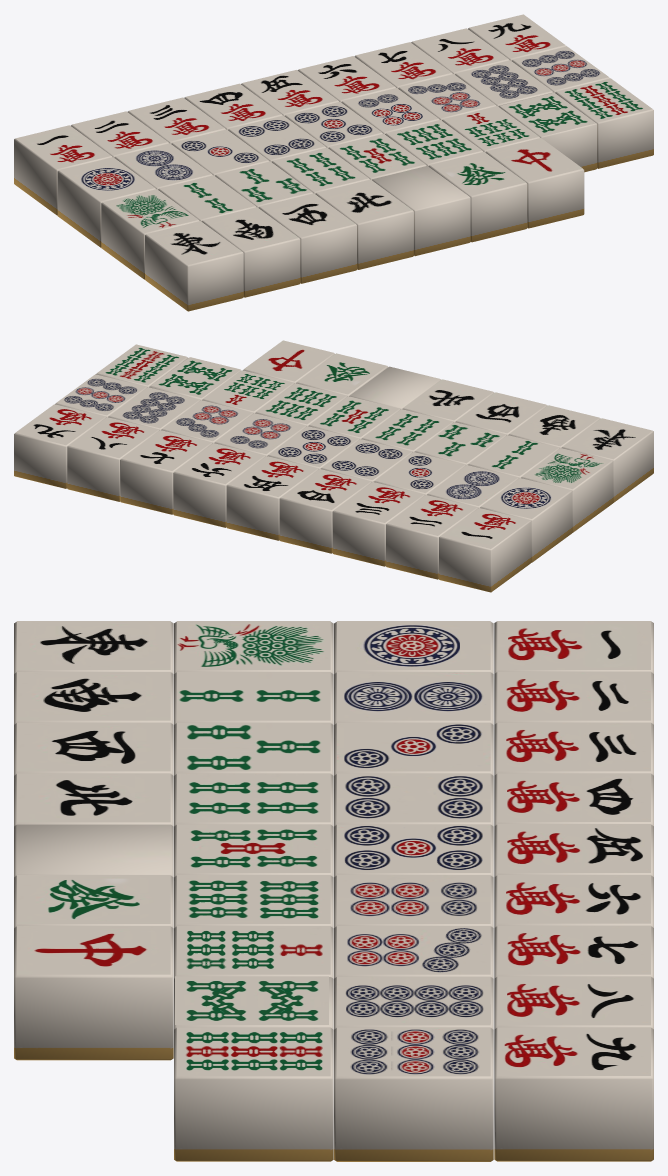
Rendered from MahjongPi_Yellow.fbx.
The picture shows the model from 3 angles, top to bottom: view 1: azimuth 30°, elevation 25°; view 2: azimuth 150°, elevation 25°; view 3: azimuth 270°, elevation 25°; orthographic projection. The views are drawn at different scales.
Parts seen in each view (by area): view 1: JongPi_Etc_East_Y, JongPi_Etc_Hatsu_Y, JongPi_Etc_Center_Y, JongPi_Etc_South_Y, JongPi_Sowzu9_Y, JongPi_Etc_North_Y, JongPi_Etc_West_Y, JongPi_Etc_White_Y, JongPi_Pinzu1_Y, JongPi_Sowzu1_Y, JongPi_Manzu1_Y, JongPi_Sowzu8_Y (+22 smaller); view 2: JongPi_Manzu1_Y, JongPi_Manzu7_Y, JongPi_Manzu3_Y, JongPi_Manzu4_Y, JongPi_Manzu9_Y, JongPi_Manzu6_Y, JongPi_Manzu5_Y, JongPi_Manzu2_Y, JongPi_Manzu8_Y, JongPi_Pinzu1_Y, JongPi_Sowzu1_Y, JongPi_Etc_East_Y (+22 smaller); view 3: JongPi_Pinzu9_Y, JongPi_Manzu9_Y, JongPi_Sowzu9_Y, JongPi_Etc_Center_Y, JongPi_Manzu3_Y, JongPi_Pinzu8_Y, JongPi_Sowzu8_Y, JongPi_Etc_West_Y, JongPi_Manzu8_Y, JongPi_Pinzu3_Y, JongPi_Sowzu3_Y, JongPi_Sowzu4_Y (+22 smaller).
Part boxes in pixels (x1=…): JongPi_Etc_East_Y: x1=145, y1=221, x2=243, y2=311; JongPi_Etc_Hatsu_Y: x1=428, y1=152, x2=527, y2=242; JongPi_Etc_Center_Y: x1=485, y1=138, x2=584, y2=228; JongPi_Etc_South_Y: x1=201, y1=207, x2=300, y2=297; JongPi_Sowzu9_Y: x1=555, y1=78, x2=653, y2=168; JongPi_Etc_North_Y: x1=315, y1=179, x2=413, y2=269; JongPi_Etc_West_Y: x1=258, y1=193, x2=356, y2=283; JongPi_Etc_White_Y: x1=372, y1=166, x2=470, y2=256; JongPi_Pinzu1_Y: x1=57, y1=157, x2=155, y2=247; JongPi_Sowzu1_Y: x1=101, y1=189, x2=199, y2=279; JongPi_Manzu1_Y: x1=14, y1=125, x2=112, y2=215; JongPi_Sowzu8_Y: x1=498, y1=92, x2=597, y2=172; JongPi_Manzu1_Y: x1=439, y1=508, x2=531, y2=592; JongPi_Manzu7_Y: x1=120, y1=430, x2=212, y2=514; JongPi_Manzu3_Y: x1=332, y1=482, x2=424, y2=566; JongPi_Manzu4_Y: x1=279, y1=469, x2=371, y2=553; JongPi_Manzu9_Y: x1=14, y1=404, x2=106, y2=488; JongPi_Manzu6_Y: x1=173, y1=443, x2=265, y2=527; JongPi_Manzu5_Y: x1=226, y1=456, x2=318, y2=540; JongPi_Manzu2_Y: x1=386, y1=495, x2=478, y2=579; JongPi_Manzu8_Y: x1=67, y1=417, x2=159, y2=501; JongPi_Pinzu1_Y: x1=480, y1=478, x2=572, y2=562; JongPi_Sowzu1_Y: x1=521, y1=448, x2=613, y2=532; JongPi_Etc_East_Y: x1=562, y1=418, x2=653, y2=502; JongPi_Pinzu9_Y: x1=334, y1=1027, x2=493, y2=1161; JongPi_Manzu9_Y: x1=494, y1=1027, x2=653, y2=1161; JongPi_Sowzu9_Y: x1=174, y1=1027, x2=333, y2=1161; JongPi_Etc_Center_Y: x1=14, y1=926, x2=173, y2=1060; JongPi_Manzu3_Y: x1=494, y1=722, x2=653, y2=775; JongPi_Pinzu8_Y: x1=334, y1=976, x2=493, y2=1029; JongPi_Sowzu8_Y: x1=174, y1=976, x2=333, y2=1029; JongPi_Etc_West_Y: x1=14, y1=722, x2=173, y2=775; JongPi_Manzu8_Y: x1=494, y1=976, x2=653, y2=1029; JongPi_Pinzu3_Y: x1=334, y1=722, x2=493, y2=775; JongPi_Sowzu3_Y: x1=174, y1=722, x2=333, y2=775; JongPi_Sowzu4_Y: x1=174, y1=773, x2=333, y2=826.
Bounding box in the file's own units: 18.96 × 1.66 × 11.22.
